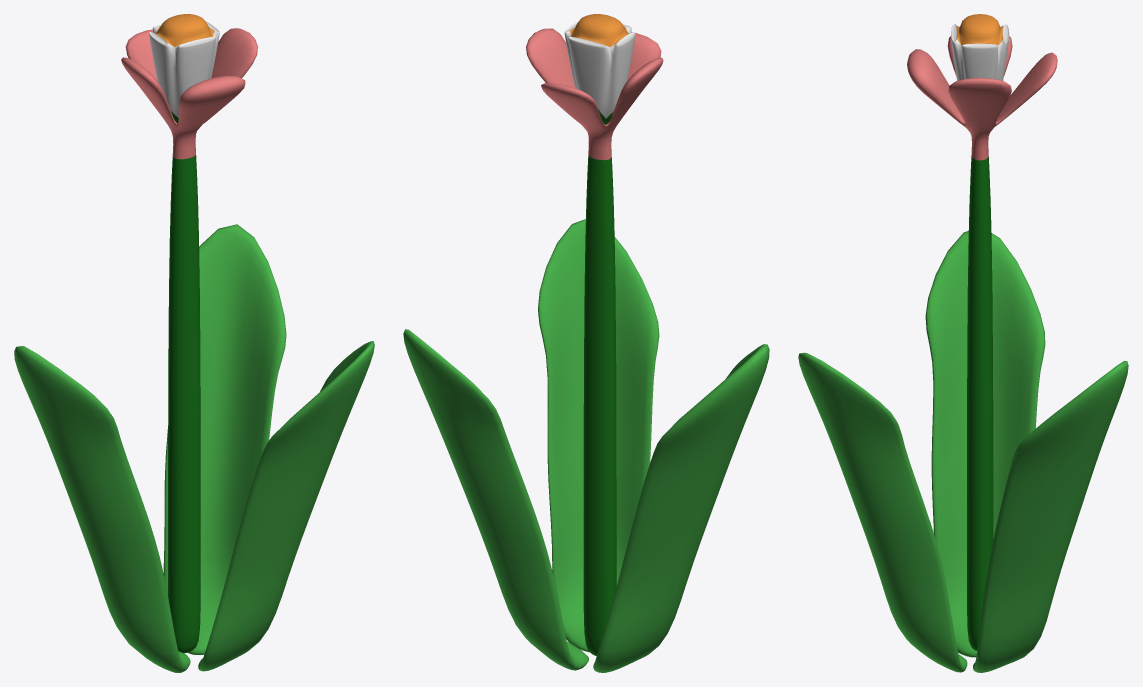
Rendered from flower1.glb.
3 views of the same model, side by side, from view 1: azimuth 30°, elevation 25°; view 2: azimuth 150°, elevation 25°; view 3: azimuth 270°, elevation 25° (orthographic).
Visible parts, largest first — view 1: Flower01; view 2: Flower01; view 3: Flower01.
Part boxes in pixels (x1,y1,x2,y2): Flower01: (14, 14, 374, 672); Flower01: (403, 14, 769, 672); Flower01: (798, 14, 1128, 672).
Size of the model in its own units: 0.4107 by 0.8374 by 0.3919.
